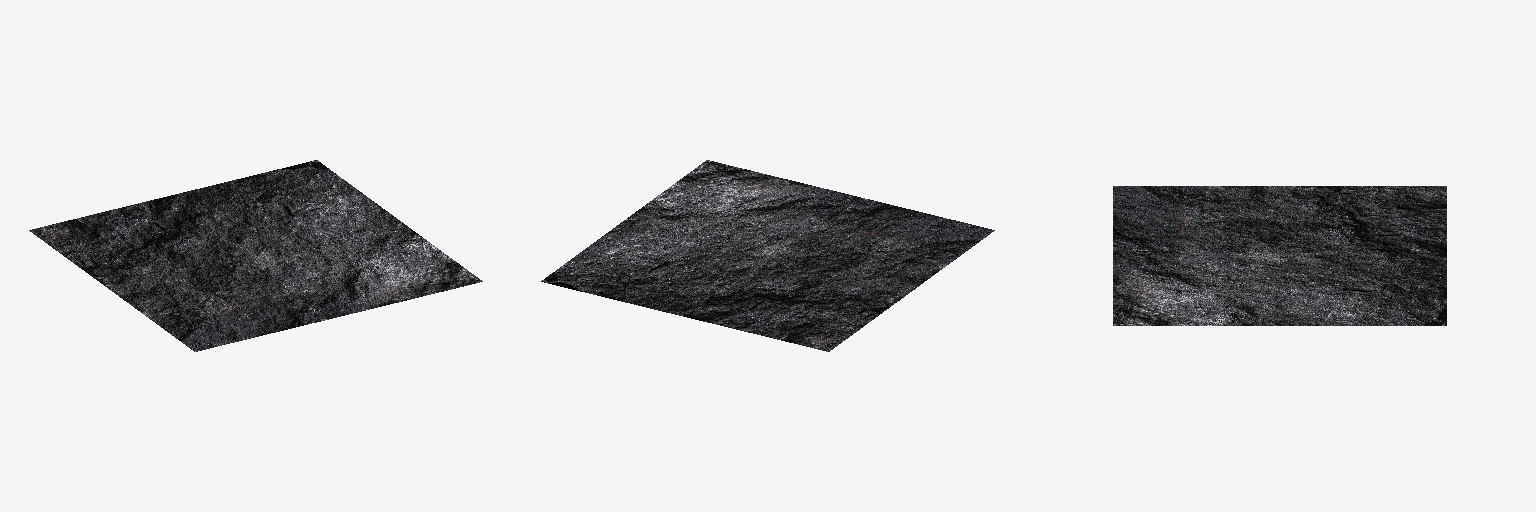
3 views of the same model, side by side, from view 1: azimuth 30°, elevation 25°; view 2: azimuth 150°, elevation 25°; view 3: azimuth 270°, elevation 25° (orthographic).
Visible parts, largest first — view 1: Ceiling; view 2: Ceiling; view 3: Ceiling.
Boxes of the visible parts, x1=… form: Ceiling: x1=29, y1=160, x2=482, y2=351; Ceiling: x1=541, y1=160, x2=994, y2=351; Ceiling: x1=1113, y1=186, x2=1446, y2=325.
Bounding box in the file's own units: 2 × 0 × 2.
Materials: 1 (1 with a texture image).